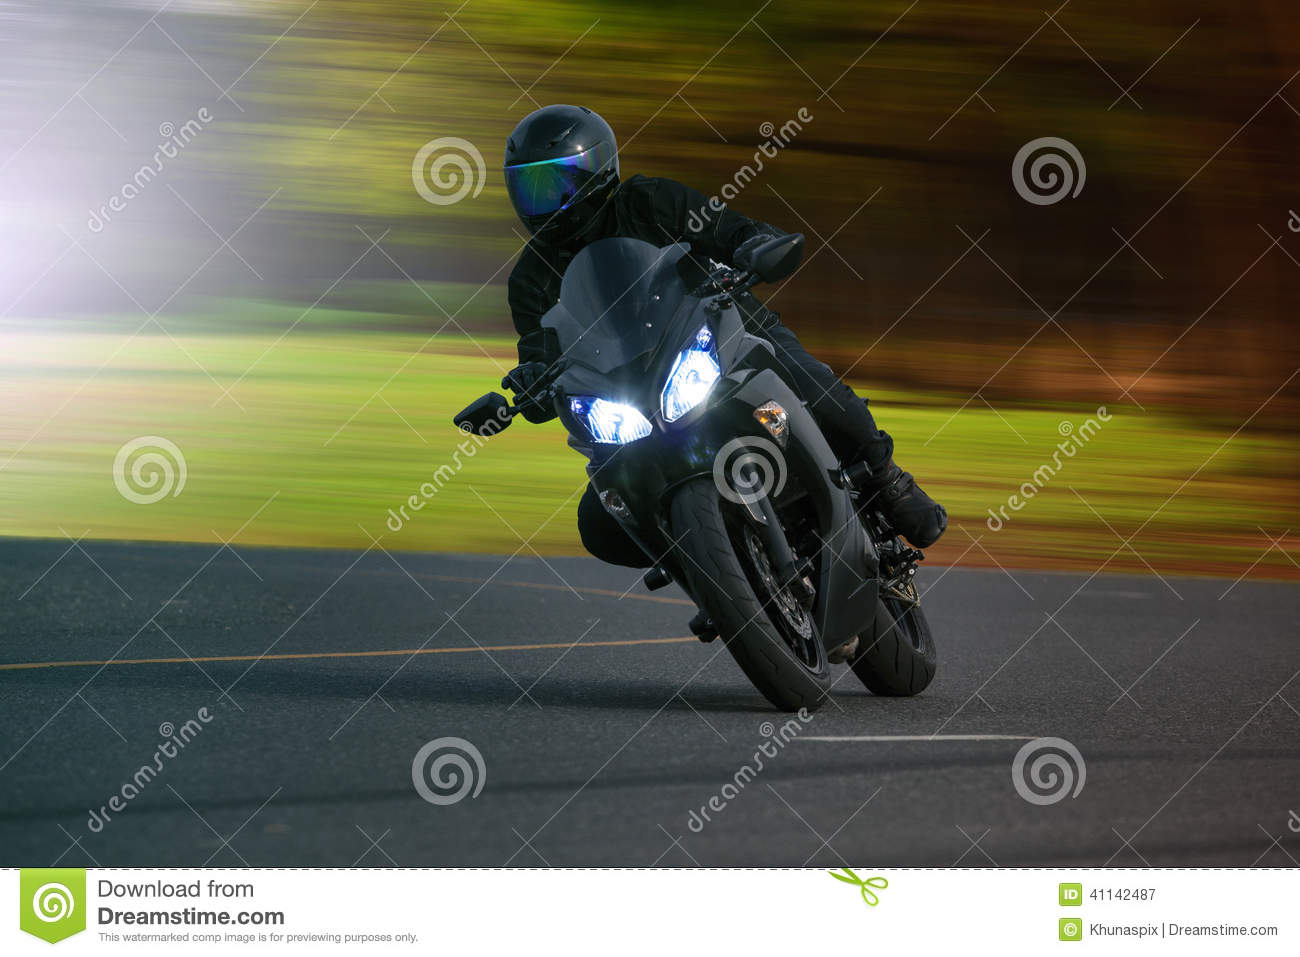helmet: (502, 101, 626, 233)
